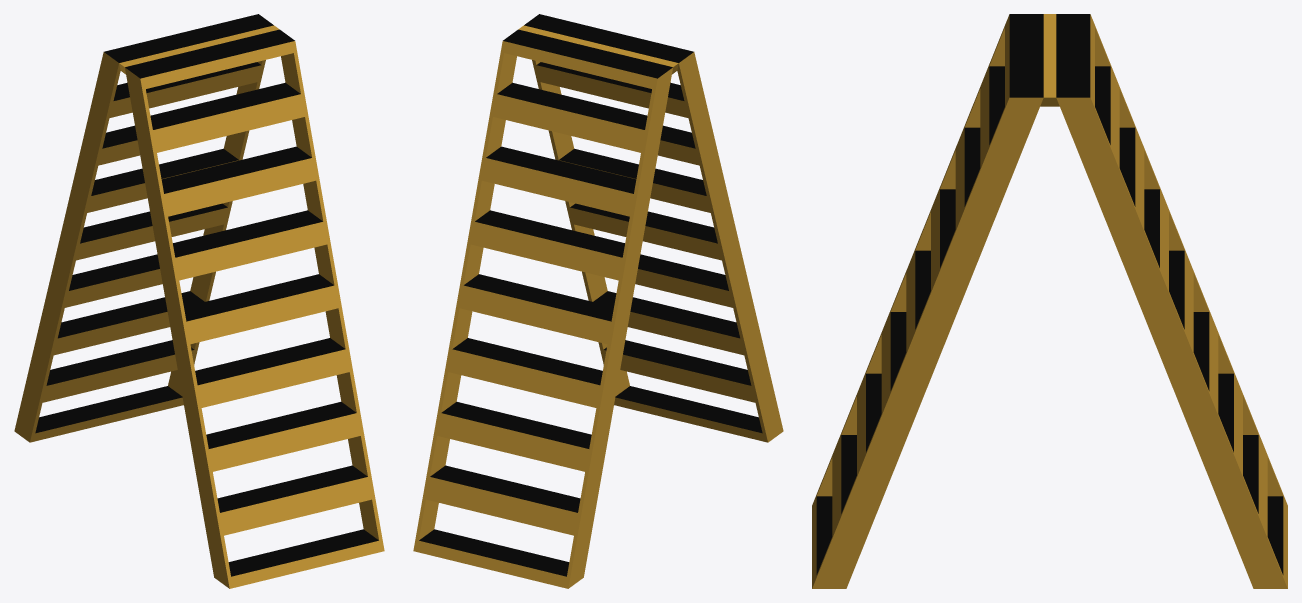
The model's file is ladder 1.fbx.
3 renders of one model, left to right at view 1: azimuth 30°, elevation 25°; view 2: azimuth 150°, elevation 25°; view 3: azimuth 270°, elevation 25°, orthographic. The views are drawn at different scales.
Parts seen in each view (by area): view 1: Plane; view 2: Plane; view 3: Plane.
Boxes of the visible parts, left/top/right/bottom form: Plane: left=14, top=14, right=384, bottom=588; Plane: left=413, top=14, right=783, bottom=588; Plane: left=812, top=14, right=1287, bottom=588.
Size of the model in its own units: 68.5 by 188 by 165.
